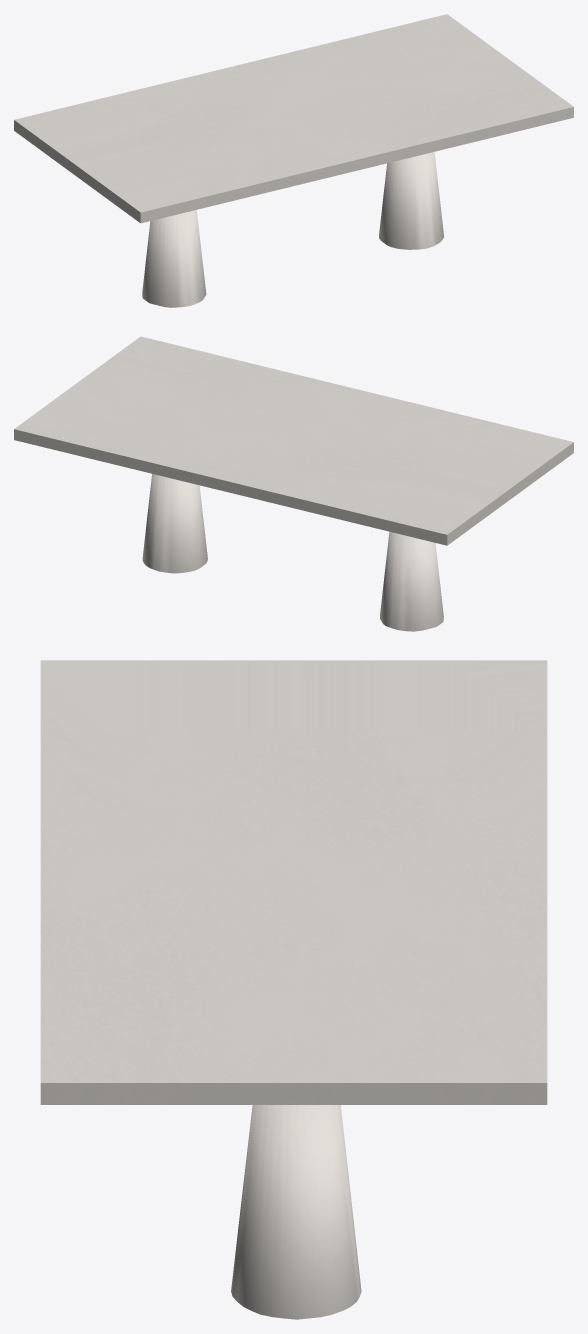
The model's file is pearlwhite_recta_standard_pebble.glb.
3 renders of one model, top to bottom at view 1: azimuth 30°, elevation 25°; view 2: azimuth 150°, elevation 25°; view 3: azimuth 270°, elevation 25°, orthographic. The views are drawn at different scales.
Visible parts, largest first — view 1: pearlwhite_rectastandard_pebble; view 2: pearlwhite_rectastandard_pebble; view 3: pearlwhite_rectastandard_pebble.
Boxes of the visible parts, x1,y1,x2,y2 form: pearlwhite_rectastandard_pebble: (14,14,573,307); pearlwhite_rectastandard_pebble: (14,336,573,631); pearlwhite_rectastandard_pebble: (40,660,547,1319).
Bounding box in the file's own units: 7.5 × 2.52 × 3.8.
Materials: 1 (1 with a texture image).
